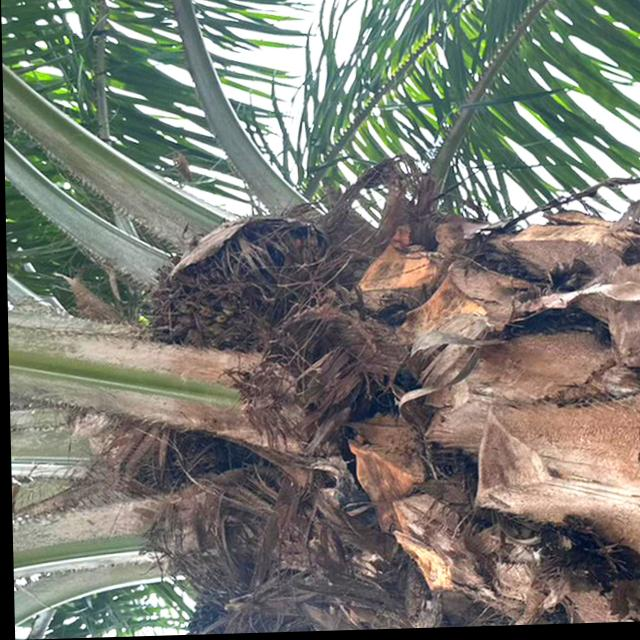almost: (146, 214, 321, 355)
